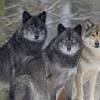Lobo: (6, 8, 52, 96), (47, 17, 82, 94), (84, 19, 100, 85)
